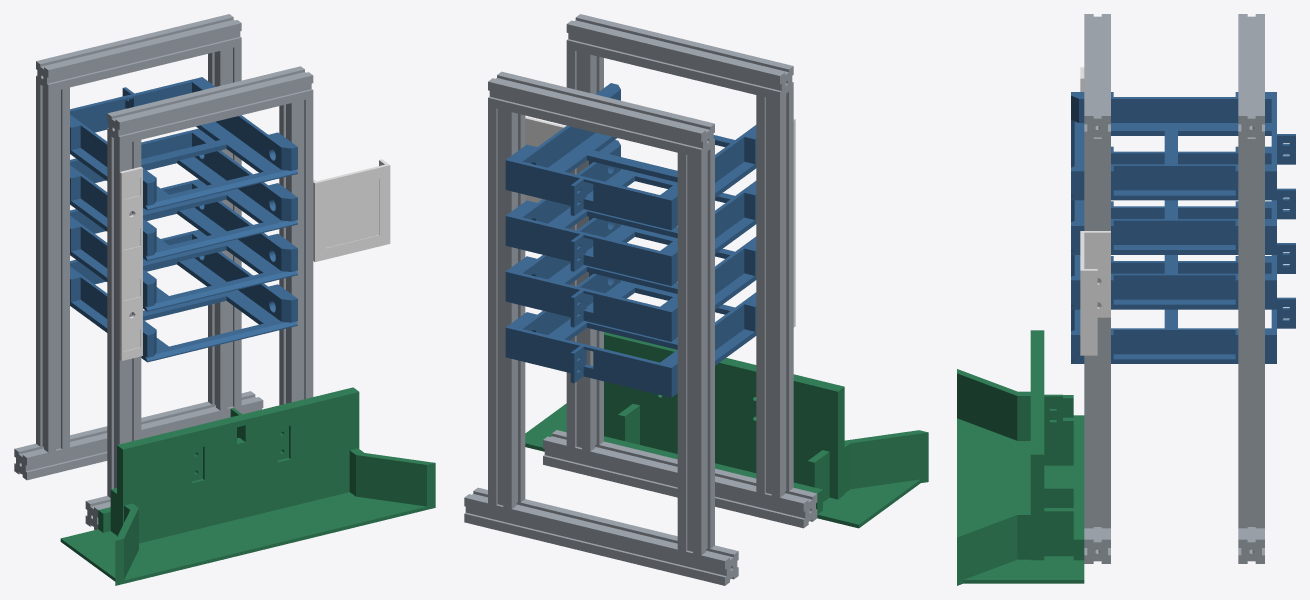
The model's file is rack.glb.
The picture shows the model from 3 angles, left to right: view 1: azimuth 30°, elevation 25°; view 2: azimuth 150°, elevation 25°; view 3: azimuth 270°, elevation 25°; orthographic projection. The views are drawn at different scales.
Parts seen in each view (by area): view 1: rack (×4); view 2: rack (×4); view 3: rack (×4).
Part boxes in pixels (bbox=[...]): rack (×4): bbox=[14, 14, 435, 585]; rack (×4): bbox=[464, 14, 928, 585]; rack (×4): bbox=[957, 14, 1295, 585].
Bounding box in the file's own units: 0.309 × 0.36 × 0.253.
